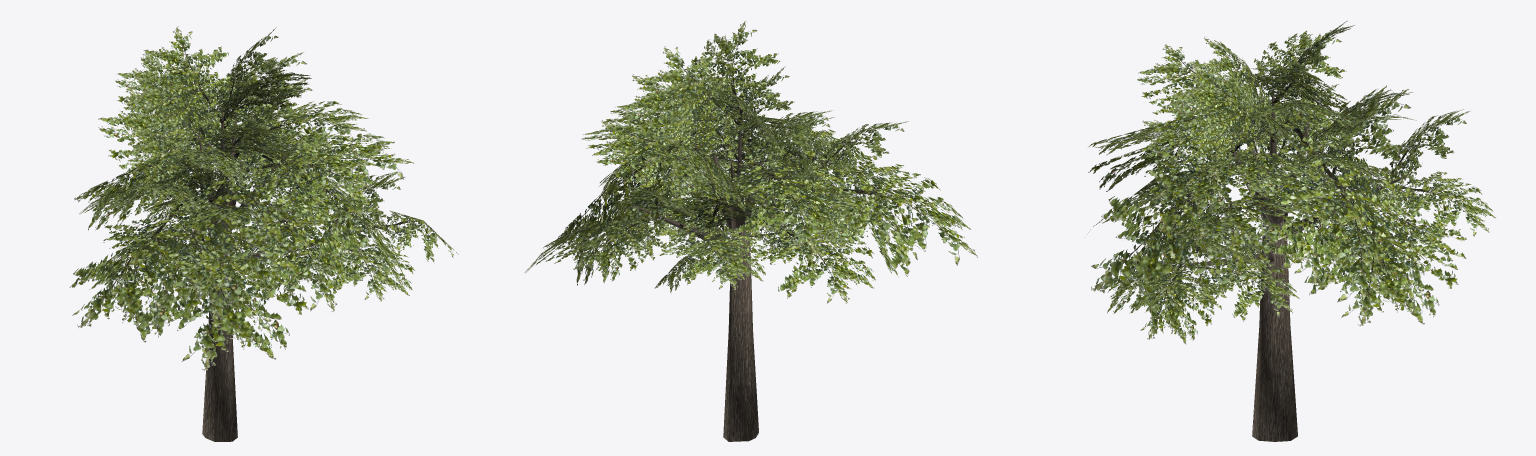
The model's file is Tree.fbx.
The picture shows the model from 3 angles, left to right: view 1: azimuth 30°, elevation 25°; view 2: azimuth 150°, elevation 25°; view 3: azimuth 270°, elevation 25°; orthographic projection. The views are drawn at different scales.
Visible parts, largest first — view 1: Plane.216, Plane.208, Plane.180, Plane.182, Plane.187, Plane.217, Plane.218, Trunk_Cube.002, Plane.184, Plane.204, Plane.219, Plane.209 (+23 smaller); view 2: Plane.216, Plane.219, Trunk_Cube.002, Plane.188, Plane.207, Plane.201, Plane.203, Plane.185, Plane.205, Plane.190, Plane.191, Plane.212 (+25 smaller); view 3: Plane.182, Plane.188, Plane.183, Trunk_Cube.002, Plane.179, Plane.198, Plane.184, Plane.191, Plane.202, Plane.212, Plane.204, Plane.199 (+24 smaller).
Boxes of the visible parts, bbox=[...] form: Plane.216: bbox=[69, 201, 242, 342]; Plane.208: bbox=[128, 210, 314, 370]; Plane.180: bbox=[139, 152, 304, 319]; Plane.182: bbox=[261, 155, 404, 288]; Plane.187: bbox=[223, 183, 364, 312]; Plane.217: bbox=[233, 130, 378, 221]; Plane.218: bbox=[137, 26, 243, 124]; Trunk_Cube.002: bbox=[202, 233, 237, 441]; Plane.184: bbox=[260, 125, 414, 225]; Plane.204: bbox=[237, 101, 368, 168]; Plane.219: bbox=[74, 145, 218, 230]; Plane.209: bbox=[126, 74, 221, 148]; Plane.216: bbox=[802, 154, 978, 276]; Plane.219: bbox=[711, 151, 865, 254]; Trunk_Cube.002: bbox=[723, 231, 758, 441]; Plane.188: bbox=[553, 132, 695, 285]; Plane.207: bbox=[643, 46, 738, 142]; Plane.201: bbox=[751, 221, 875, 303]; Plane.203: bbox=[659, 222, 768, 289]; Plane.185: bbox=[689, 21, 780, 124]; Plane.205: bbox=[592, 120, 706, 200]; Plane.190: bbox=[621, 74, 739, 156]; Plane.191: bbox=[573, 213, 668, 283]; Plane.212: bbox=[655, 180, 789, 233]; Plane.182: bbox=[1091, 144, 1274, 328]; Plane.188: bbox=[1248, 128, 1430, 309]; Plane.183: bbox=[1303, 196, 1466, 326]; Trunk_Cube.002: bbox=[1252, 219, 1297, 441]; Plane.179: bbox=[1175, 62, 1270, 160]; Plane.198: bbox=[1129, 264, 1226, 344]; Plane.184: bbox=[1166, 194, 1331, 248]; Plane.191: bbox=[1394, 171, 1495, 240]; Plane.202: bbox=[1257, 165, 1385, 284]; Plane.212: bbox=[1310, 85, 1411, 210]; Plane.204: bbox=[1201, 153, 1336, 197]; Plane.199: bbox=[1190, 252, 1299, 321].
Bounding box in the file's own units: 824 × 752 × 795.
4 materials, 4 textured.
